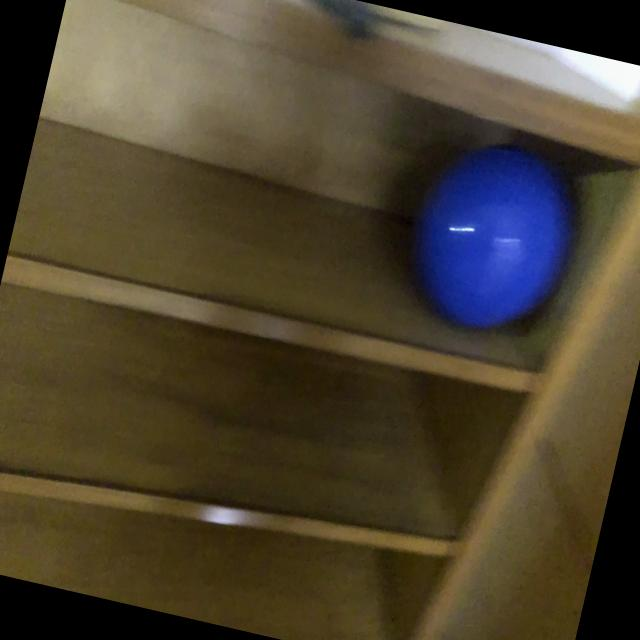blue_ball: (398, 126, 596, 354)
